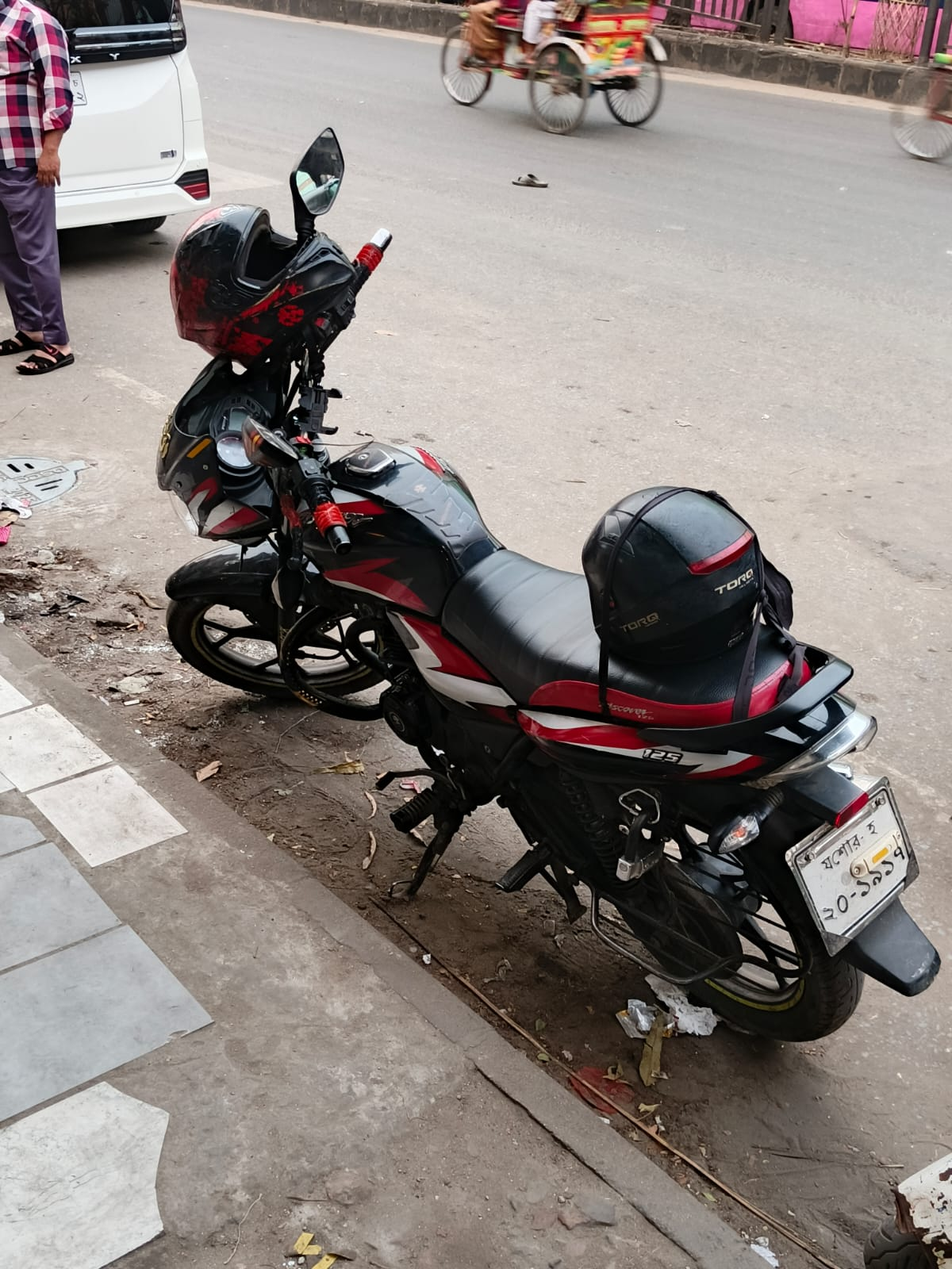Bikes: (135, 124, 949, 1086)
